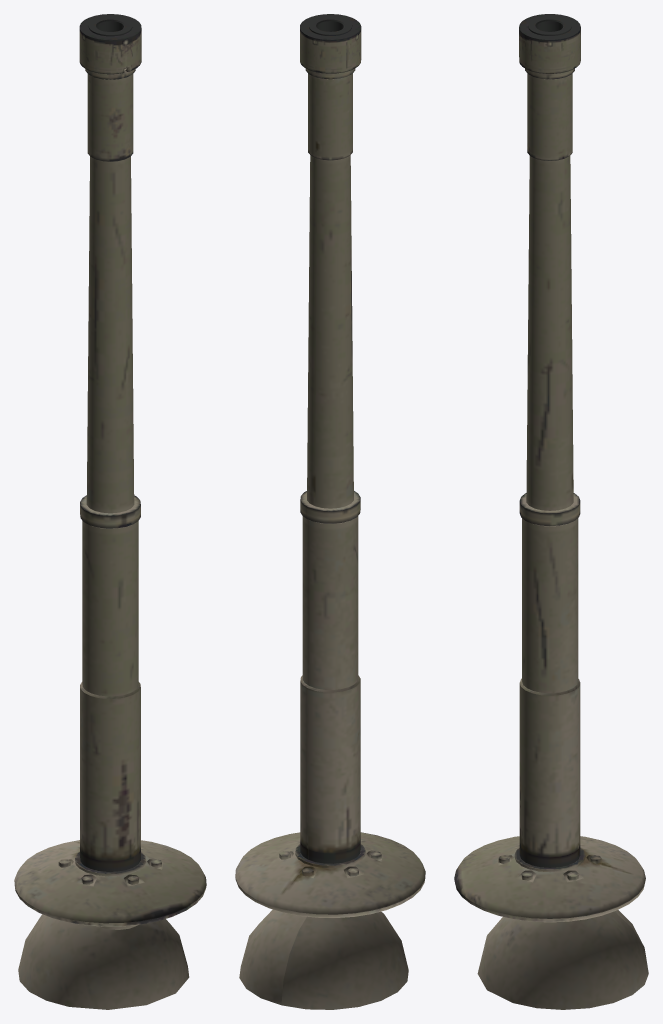
Rendered from Gun_01.glb.
3 renders of one model, left to right at view 1: azimuth 30°, elevation 25°; view 2: azimuth 150°, elevation 25°; view 3: azimuth 270°, elevation 25°, orthographic.
Visible parts, largest first — view 1: set_0_group_0; view 2: set_0_group_0; view 3: set_0_group_0.
Boxes of the visible parts, x1,y1,x2,y2 form: set_0_group_0: (14,14,206,1009); set_0_group_0: (235,14,425,1009); set_0_group_0: (454,14,648,1009).
Bounding box in the file's own units: 0.82 × 4.47 × 0.8323.
Materials: 1 (1 with a texture image).
